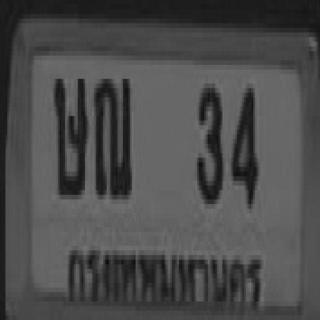A19: (92, 72, 130, 192)
A39: (52, 72, 87, 192)
N03: (195, 79, 221, 200)
N04: (230, 84, 257, 204)
P04: (60, 235, 265, 320)
